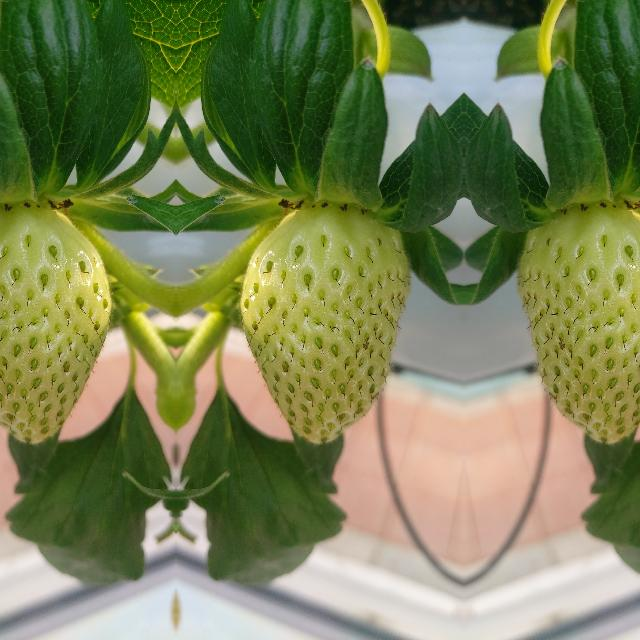Health_25: (239, 200, 409, 442), (517, 199, 640, 442), (0, 199, 111, 442)
